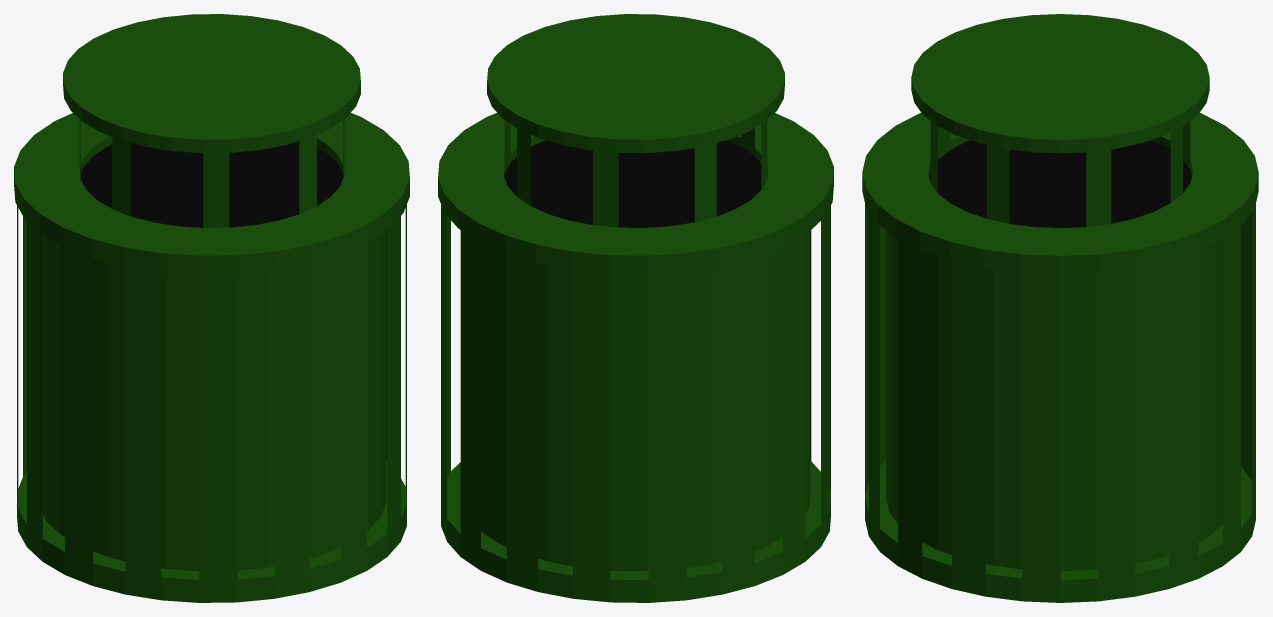
The model's file is outsideTrashcan.fbx.
3 renders of one model, left to right at view 1: azimuth 30°, elevation 25°; view 2: azimuth 150°, elevation 25°; view 3: azimuth 270°, elevation 25°, orthographic.
Visible parts, largest first — view 1: Cylinder.001, Cylinder, Cylinder.002, Cylinder.004, Cylinder.003; view 2: Cylinder.001, Cylinder, Cylinder.002, Cylinder.004, Cylinder.003; view 3: Cylinder.001, Cylinder, Cylinder.002, Cylinder.004, Cylinder.003.
Boxes of the visible parts, left/top/right/bottom form: Cylinder.001: left=17, top=205, right=406, bottom=602; Cylinder: left=42, top=231, right=386, bottom=571; Cylinder.002: left=14, top=113, right=409, bottom=274; Cylinder.004: left=63, top=14, right=360, bottom=153; Cylinder.003: left=80, top=141, right=343, bottom=227; Cylinder.001: left=441, top=205, right=830, bottom=602; Cylinder: left=481, top=231, right=810, bottom=571; Cylinder.002: left=438, top=113, right=833, bottom=274; Cylinder.004: left=487, top=14, right=784, bottom=153; Cylinder.003: left=504, top=140, right=767, bottom=227; Cylinder.001: left=865, top=204, right=1255, bottom=602; Cylinder: left=886, top=230, right=1222, bottom=571; Cylinder.002: left=862, top=112, right=1258, bottom=274; Cylinder.004: left=911, top=14, right=1209, bottom=153; Cylinder.003: left=929, top=140, right=1191, bottom=228.
Bounding box in the file's own units: 375 × 462 × 375.
